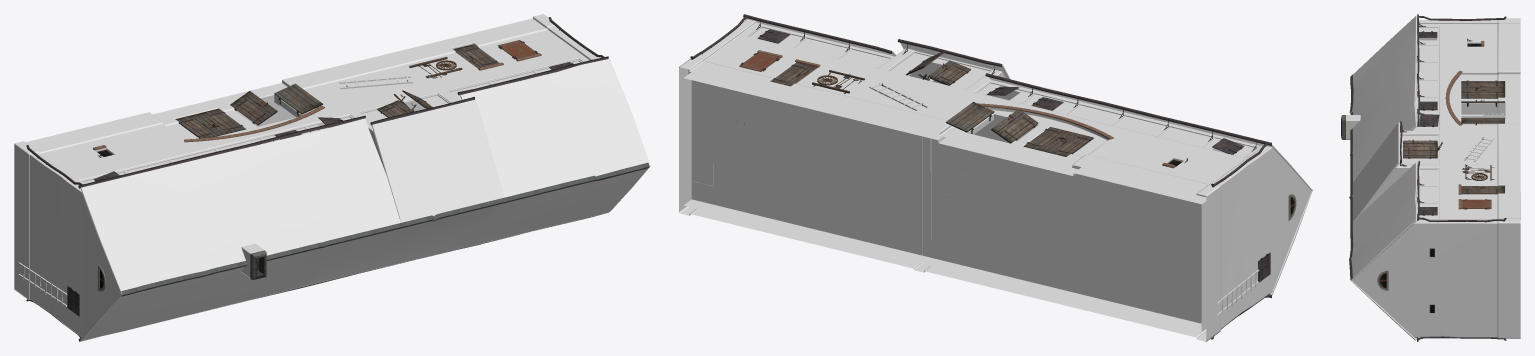
Rendered from hd_bld_EU_057_Shed_01.fbx.
3 renders of one model, left to right at view 1: azimuth 30°, elevation 25°; view 2: azimuth 150°, elevation 25°; view 3: azimuth 270°, elevation 25°, orthographic. The views are drawn at different scales.
Visible parts, largest first — view 1: set_0_group_5, set_0_group_2, set_0_group_0, set_0_group_1, set_0_group_4, set_0_group_3; view 2: set_0_group_6, set_0_group_2, set_0_group_1, set_0_group_0, set_0_group_3, set_0_group_4, set_0_group_5; view 3: set_0_group_2, set_0_group_5, set_0_group_1, set_0_group_0, set_0_group_3, set_0_group_4.
Boxes of the visible parts, left/top/right/bottom form: set_0_group_5: left=80, top=59, right=650, bottom=340; set_0_group_2: left=30, top=26, right=599, bottom=337; set_0_group_0: left=26, top=17, right=649, bottom=341; set_0_group_1: left=14, top=14, right=557, bottom=300; set_0_group_4: left=18, top=59, right=582, bottom=306; set_0_group_3: left=83, top=61, right=579, bottom=183; set_0_group_6: left=688, top=69, right=1206, bottom=323; set_0_group_2: left=696, top=19, right=1311, bottom=328; set_0_group_1: left=679, top=57, right=1220, bottom=341; set_0_group_0: left=690, top=14, right=1312, bottom=339; set_0_group_3: left=749, top=27, right=1255, bottom=157; set_0_group_4: left=696, top=24, right=1259, bottom=315; set_0_group_5: left=746, top=18, right=1312, bottom=295; set_0_group_2: left=1346, top=19, right=1497, bottom=337; set_0_group_5: left=1350, top=16, right=1417, bottom=340; set_0_group_1: left=1497, top=18, right=1520, bottom=338; set_0_group_0: left=1341, top=14, right=1506, bottom=341; set_0_group_3: left=1399, top=28, right=1437, bottom=218; set_0_group_4: left=1400, top=26, right=1505, bottom=218.
Bounding box in the file's own units: 2242 × 653 × 826.
